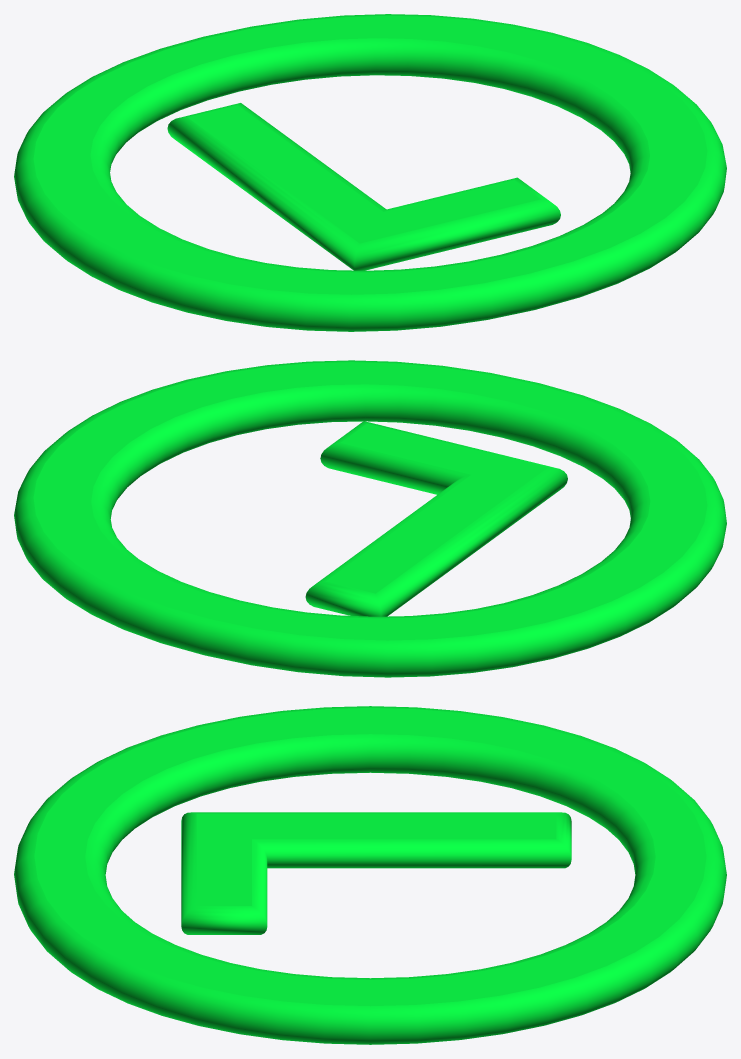
The model's file is green.dae.
The picture shows the model from 3 angles, top to bottom: view 1: azimuth 30°, elevation 25°; view 2: azimuth 150°, elevation 25°; view 3: azimuth 270°, elevation 25°; orthographic projection. The views are drawn at different scales.
Parts seen in each view (by area): view 1: Text.001; view 2: Text.001; view 3: Text.001.
Boxes of the visible parts, box(x1,y1,x2,y2) form: Text.001: box(14, 14, 726, 331); Text.001: box(14, 360, 726, 677); Text.001: box(14, 706, 726, 1044).
Size of the model in its own units: 1.6 by 1.53 by 0.0875.
